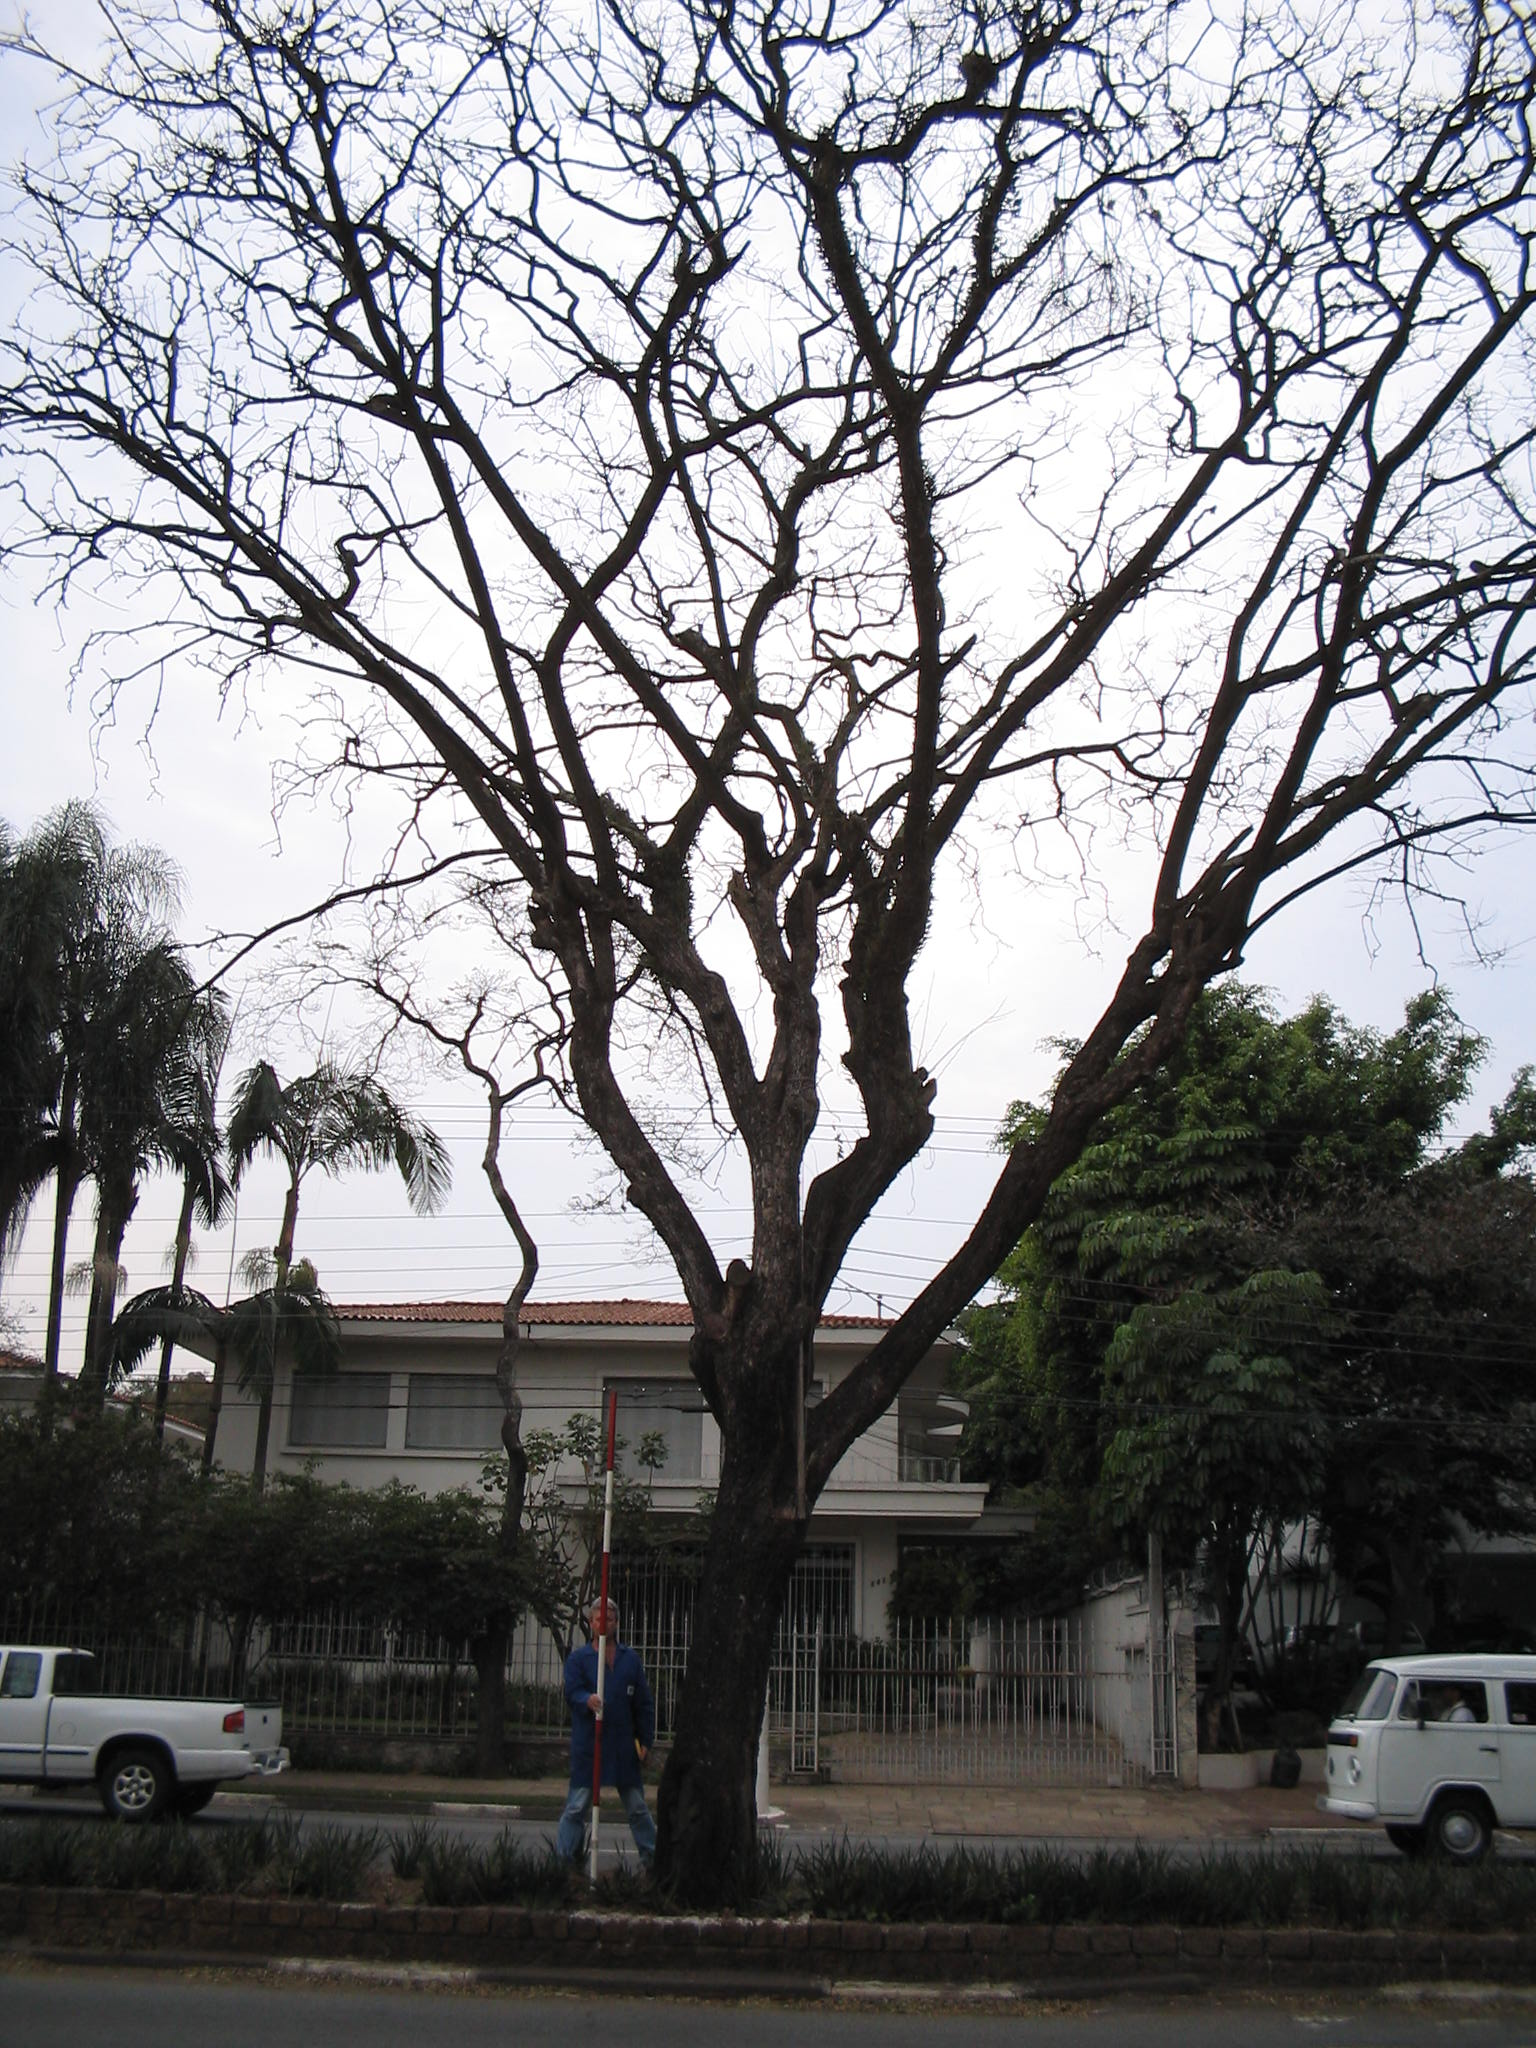stem: (624, 1429, 883, 1913)
stick: (557, 1397, 649, 1904)
tree: (2, 8, 1536, 1921)
